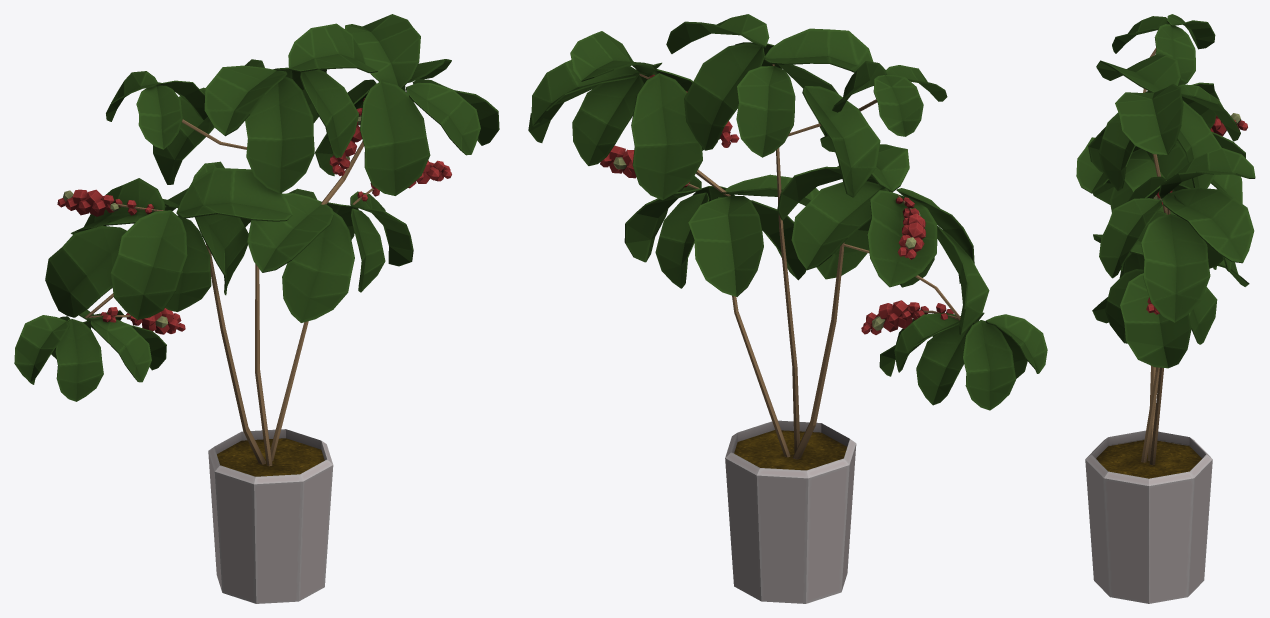
File: asset.gltf
3 renders of one model, left to right at view 1: azimuth 30°, elevation 25°; view 2: azimuth 150°, elevation 25°; view 3: azimuth 270°, elevation 25°, orthographic. The views are drawn at different scales.
Parts seen in each view (by area): view 1: node-0; view 2: node-0; view 3: node-0.
Part boxes in pixels (x1,y1,x2,y2): node-0: [14, 14, 499, 603]; node-0: [528, 14, 1047, 603]; node-0: [1076, 14, 1255, 603].
Size of the model in its own units: 8.47 by 8.99 by 2.81.
Materials: 1 (1 with a texture image).
